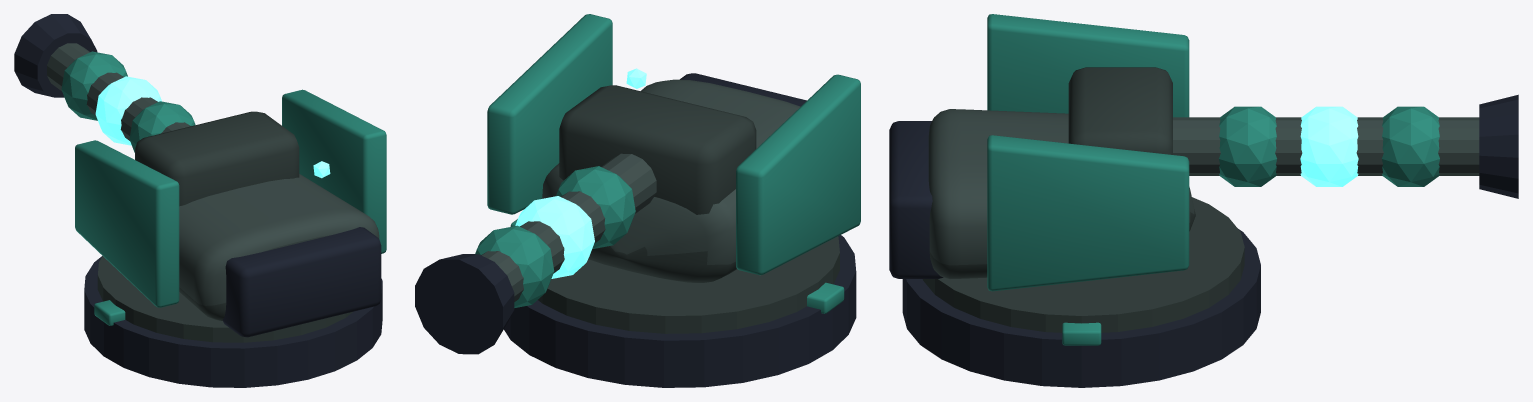
Rendered from turret_plasma_projectors.glb.
3 views of the same model, side by side, from view 1: azimuth 30°, elevation 25°; view 2: azimuth 150°, elevation 25°; view 3: azimuth 270°, elevation 25° (orthographic). The views are drawn at different scales.
Visible parts, largest first — view 1: Yaw_mesh, Pitch_mesh, Base_mesh; view 2: Yaw_mesh, Pitch_mesh, Base_mesh; view 3: Yaw_mesh, Base_mesh, Pitch_mesh.
Boxes of the visible parts, x1,y1,x2,y2 form: Yaw_mesh: (75, 89, 386, 337); Pitch_mesh: (14, 14, 299, 206); Base_mesh: (84, 256, 382, 387); Yaw_mesh: (487, 14, 860, 282); Pitch_mesh: (415, 85, 756, 354); Base_mesh: (504, 219, 856, 387); Yaw_mesh: (889, 14, 1195, 291); Base_mesh: (902, 197, 1260, 387); Pitch_mesh: (1068, 67, 1518, 198).
Bounding box in the file's own units: 1.12 × 0.7881 × 1.93.
